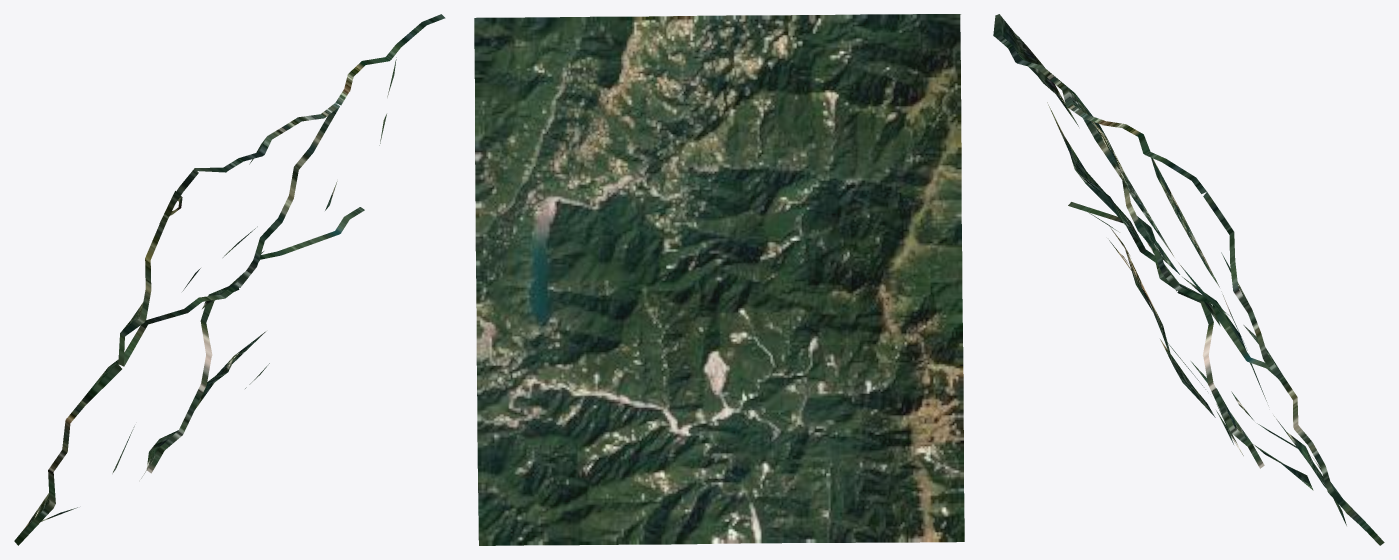
The picture shows the model from 3 angles, left to right: view 1: azimuth 30°, elevation 25°; view 2: azimuth 150°, elevation 25°; view 3: azimuth 270°, elevation 25°; orthographic projection. The views are drawn at different scales.
Bounding box in the file's own units: 20247 × 18490 × 15847.
Materials: 1 (1 with a texture image).
